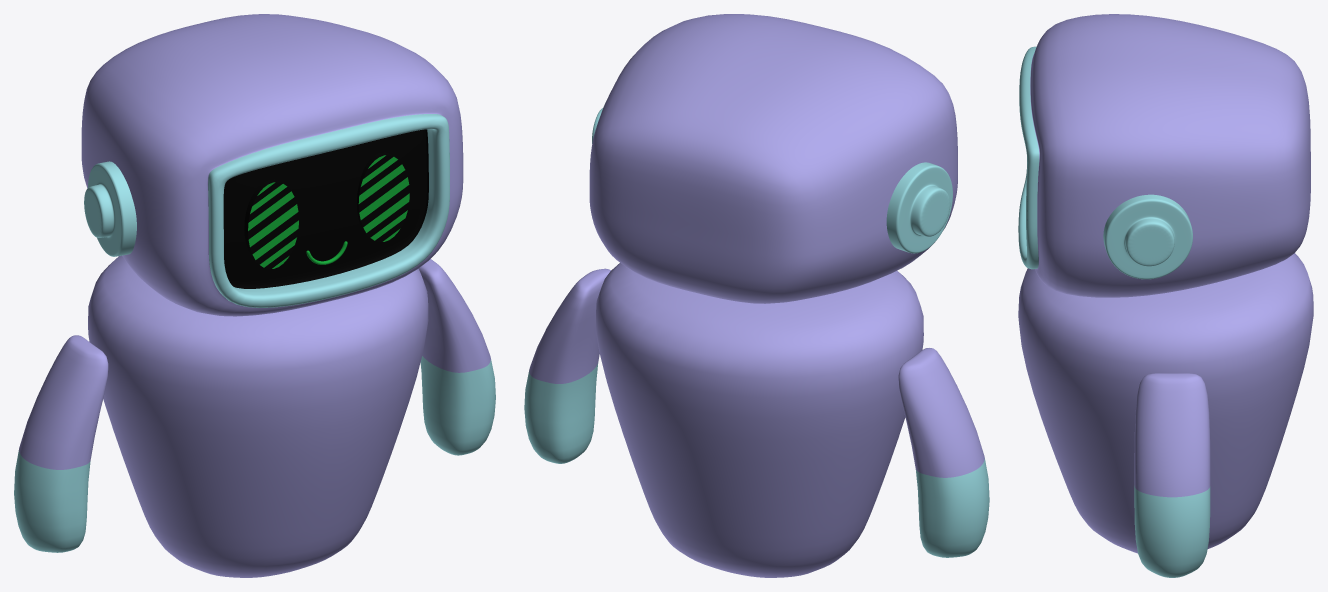
The model's file is WarmPastel.glb.
3 views of the same model, side by side, from view 1: azimuth 30°, elevation 25°; view 2: azimuth 150°, elevation 25°; view 3: azimuth 270°, elevation 25° (orthographic). The views are drawn at different scales.
Parts seen in each view (by area): view 1: Cube.005; view 2: Cube.005; view 3: Cube.005.
Boxes of the visible parts, left/top/right/bottom form: Cube.005: left=14, top=14, right=495, bottom=577; Cube.005: left=524, top=14, right=989, bottom=577; Cube.005: left=1018, top=14, right=1313, bottom=577.
Bounding box in the file's own units: 3.65 × 3.85 × 2.12.
